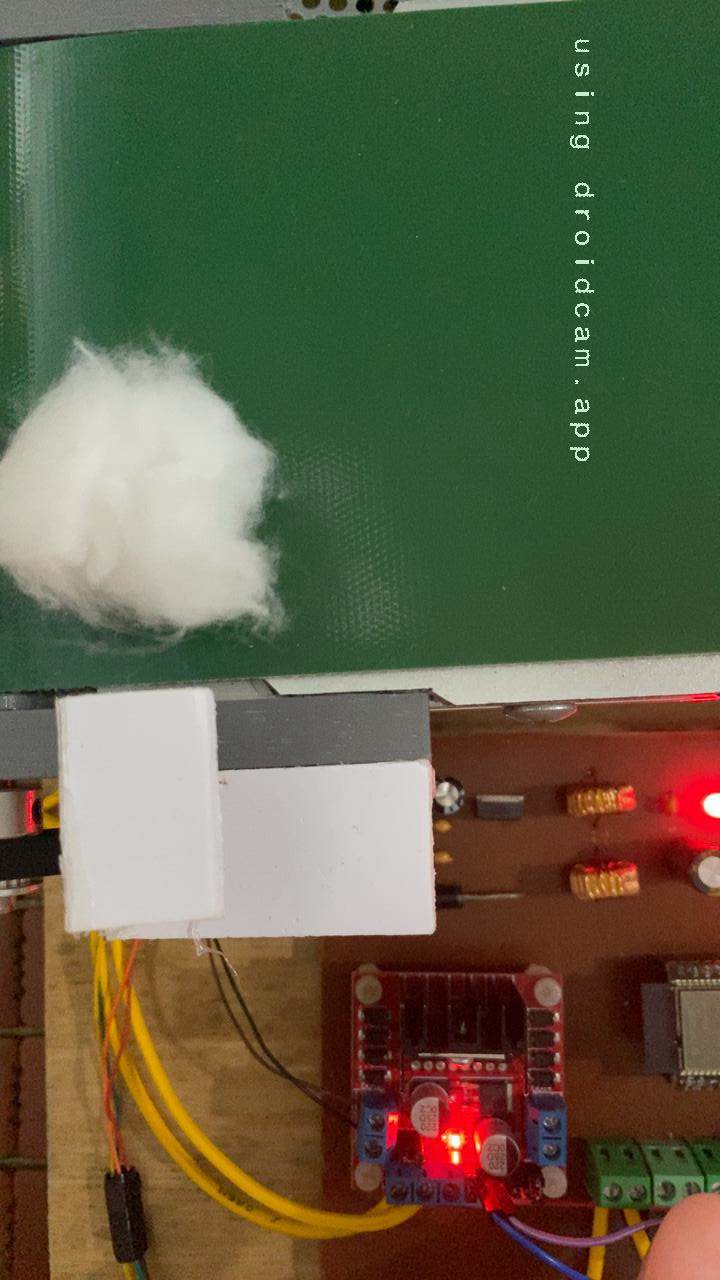cotton: (0, 334, 286, 636)
